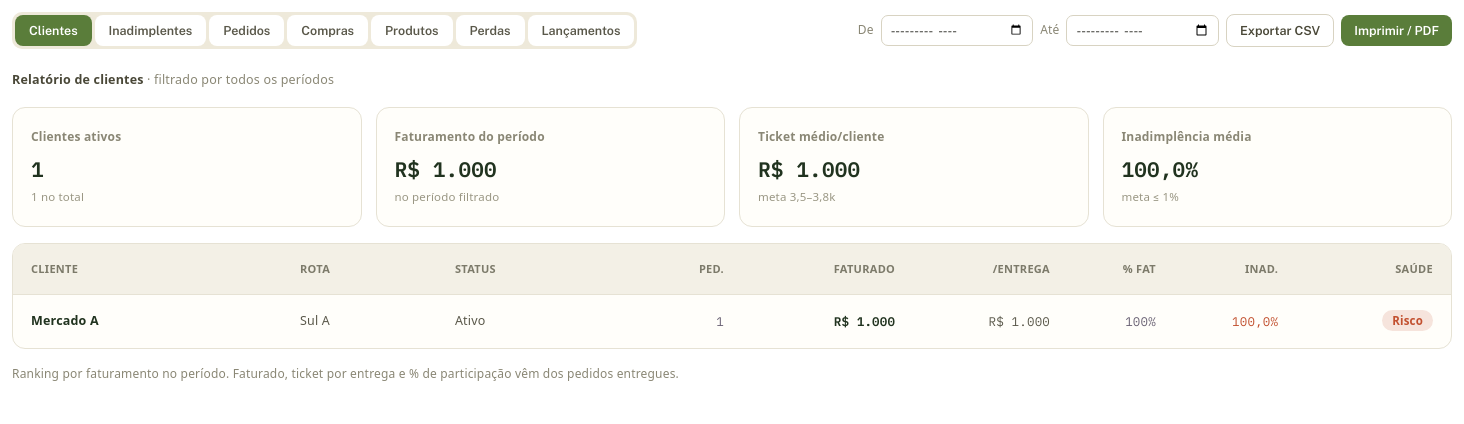
Test: RelatoriosTela — abas › troca de aba mostra outro relatorio
Expected: the text "Mercado A" is shown, [31,312,99,330]
Step 1. Click the button "Inadimplentes" → [150, 30], box [95,15,206,46]
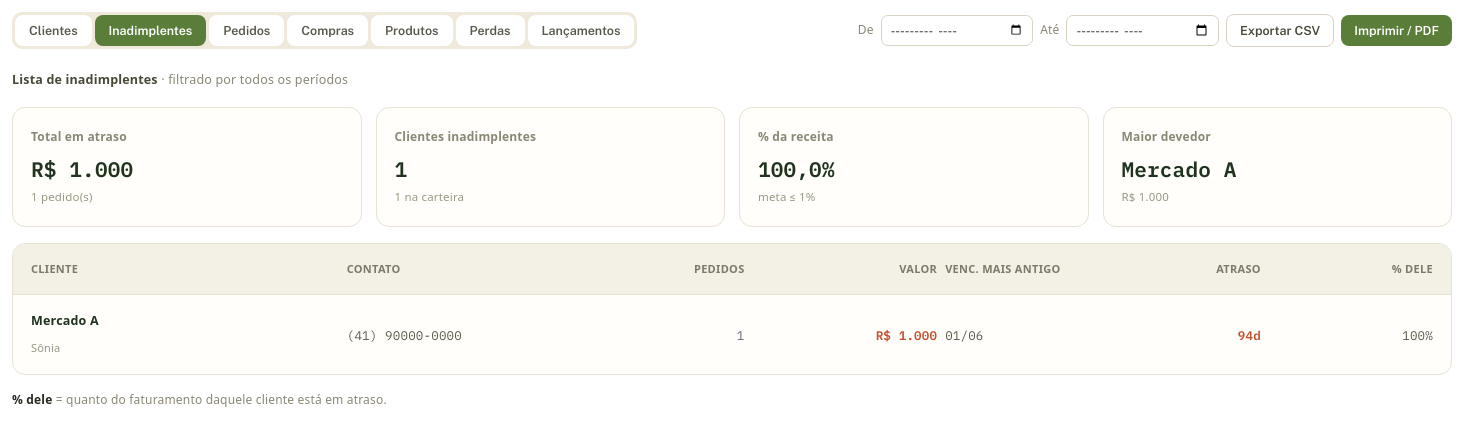
Expected: the text "Total em atraso" is shown, [31,128,127,145]
Expected: the text "Mercado A" is shown, [1122,155,1236,183]
